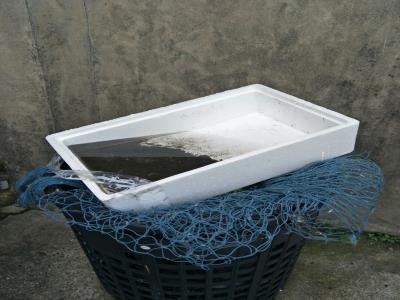styrofoam: (42, 82, 361, 215)
